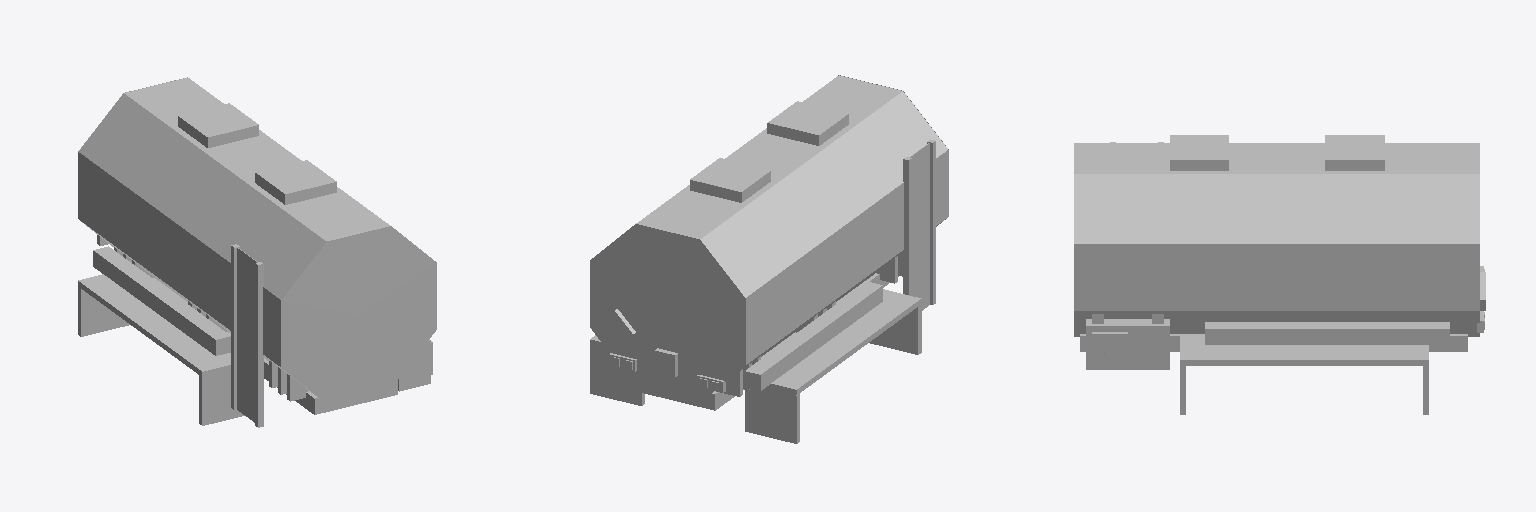
Rendered from brigbedtanker.obj.
3 renders of one model, left to right at view 1: azimuth 30°, elevation 25°; view 2: azimuth 150°, elevation 25°; view 3: azimuth 270°, elevation 25°, orthographic.
Parts seen in each view (by area): view 1: #translucent_mudAcc_main, tank; view 2: #translucent_mudAcc_main, tank; view 3: #translucent_mudAcc_main, tank.
Boxes of the visible parts, x1=… form: #translucent_mudAcc_main: x1=78, y1=77, x2=436, y2=427; tank: x1=79, y1=78, x2=389, y2=299; #translucent_mudAcc_main: x1=590, y1=75, x2=948, y2=443; tank: x1=636, y1=75, x2=947, y2=297; #translucent_mudAcc_main: x1=1074, y1=142, x2=1485, y2=414; tank: x1=1074, y1=135, x2=1479, y2=243.
Size of the model in its own units: 2.5 by 2.5 by 4.32.